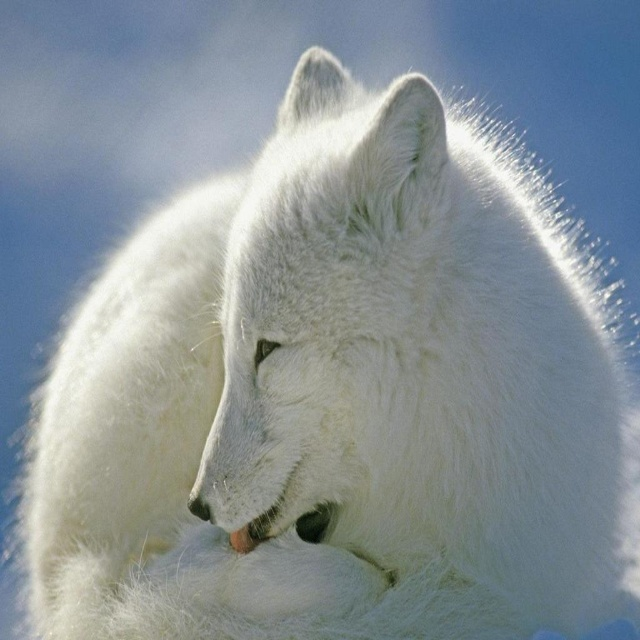Polar bear: (0, 43, 640, 640)
